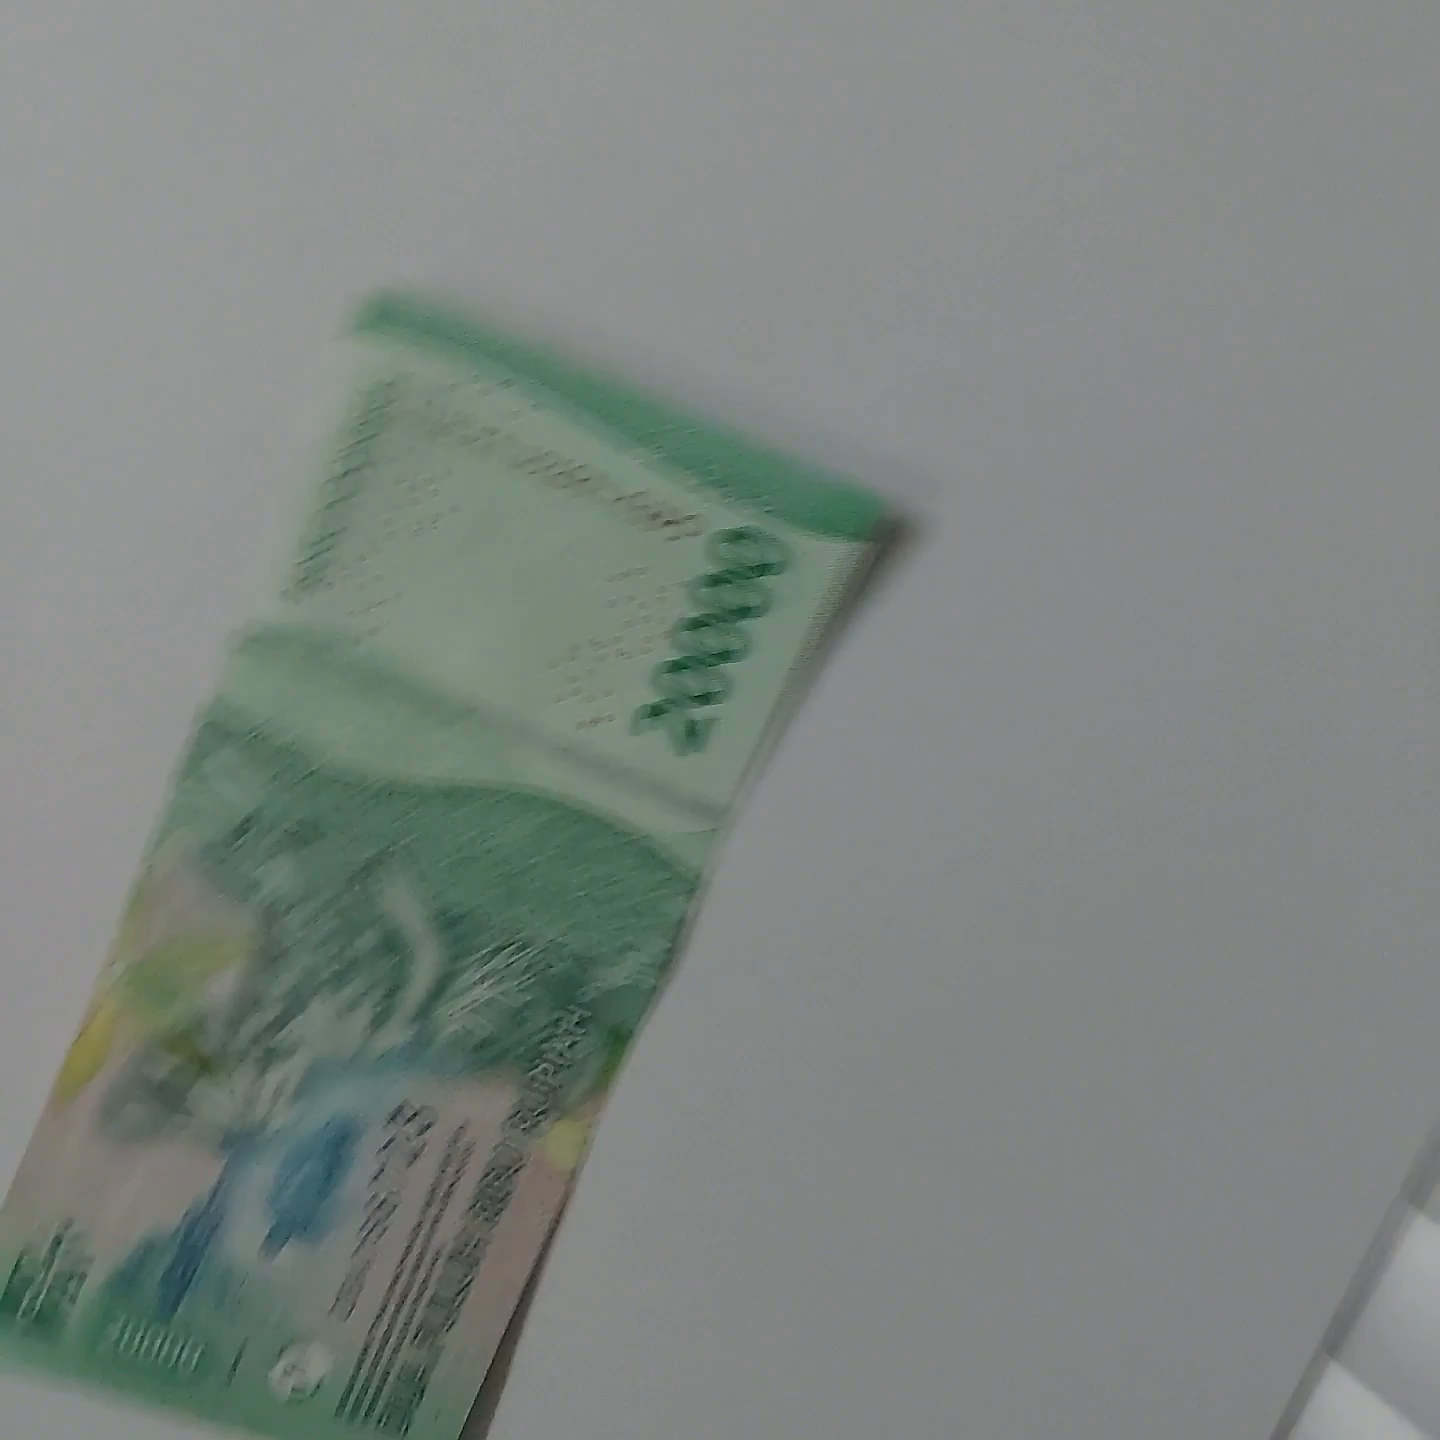20k: (0, 289, 913, 1440)
